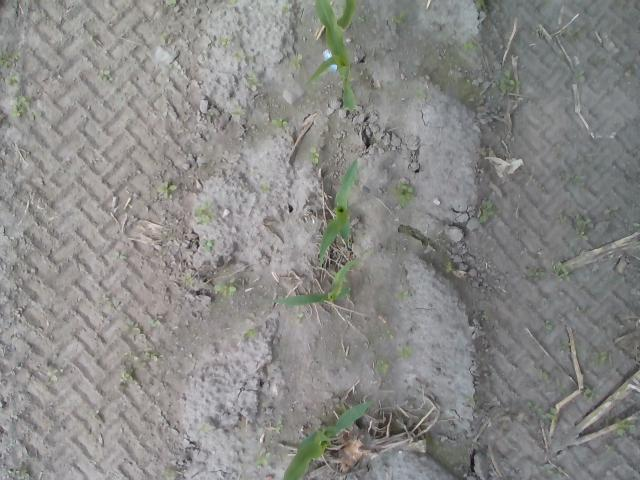Maize: (283, 399, 372, 480), (306, 0, 360, 113), (318, 157, 362, 265), (271, 259, 361, 307)
Weeds: (397, 182, 417, 208), (10, 95, 30, 119), (155, 179, 177, 200), (193, 202, 216, 222), (615, 417, 637, 436), (478, 198, 494, 224), (552, 257, 570, 280), (214, 281, 238, 296), (574, 219, 590, 241), (0, 50, 20, 66), (540, 406, 560, 422), (248, 73, 264, 91), (496, 78, 514, 93), (110, 250, 127, 264), (592, 350, 608, 364), (200, 238, 212, 256), (308, 146, 320, 164), (582, 385, 596, 400), (374, 358, 388, 373), (97, 68, 112, 82), (231, 106, 247, 119), (43, 370, 60, 382), (290, 53, 302, 70), (4, 74, 20, 86), (528, 270, 544, 282), (270, 116, 286, 128), (472, 0, 489, 10), (398, 346, 412, 358), (542, 319, 554, 333), (463, 40, 476, 52), (255, 452, 268, 464), (144, 352, 160, 361), (275, 416, 283, 434), (118, 371, 130, 383), (231, 50, 242, 61), (221, 35, 232, 46), (398, 290, 410, 300), (244, 328, 256, 338), (259, 182, 270, 192), (446, 260, 454, 272), (149, 318, 161, 326), (166, 0, 177, 6)
